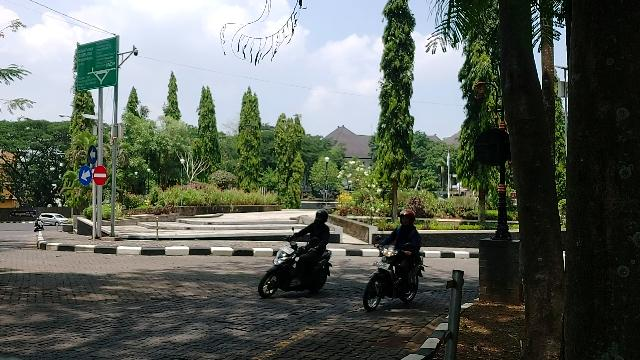helm: (399, 209, 418, 229), (316, 209, 330, 225)
motor: (258, 227, 334, 301), (363, 235, 427, 313)
